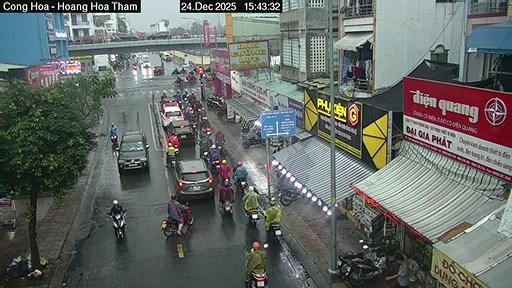motorbike: (336, 238, 394, 275), (348, 256, 384, 286), (108, 210, 125, 238), (281, 189, 303, 205), (246, 270, 266, 287), (242, 134, 265, 148), (160, 217, 176, 234), (249, 270, 265, 287), (266, 224, 281, 241), (246, 208, 259, 225), (206, 95, 223, 108), (182, 205, 192, 225), (188, 112, 197, 134), (201, 117, 210, 135), (214, 140, 224, 154), (166, 154, 176, 167), (236, 180, 246, 192), (211, 161, 220, 174), (217, 104, 226, 117), (223, 201, 231, 215), (109, 131, 117, 143), (201, 152, 208, 165), (185, 73, 195, 81), (175, 80, 184, 85), (172, 68, 179, 73), (131, 63, 137, 68), (179, 67, 185, 72), (262, 243, 268, 247), (250, 248, 252, 251)
